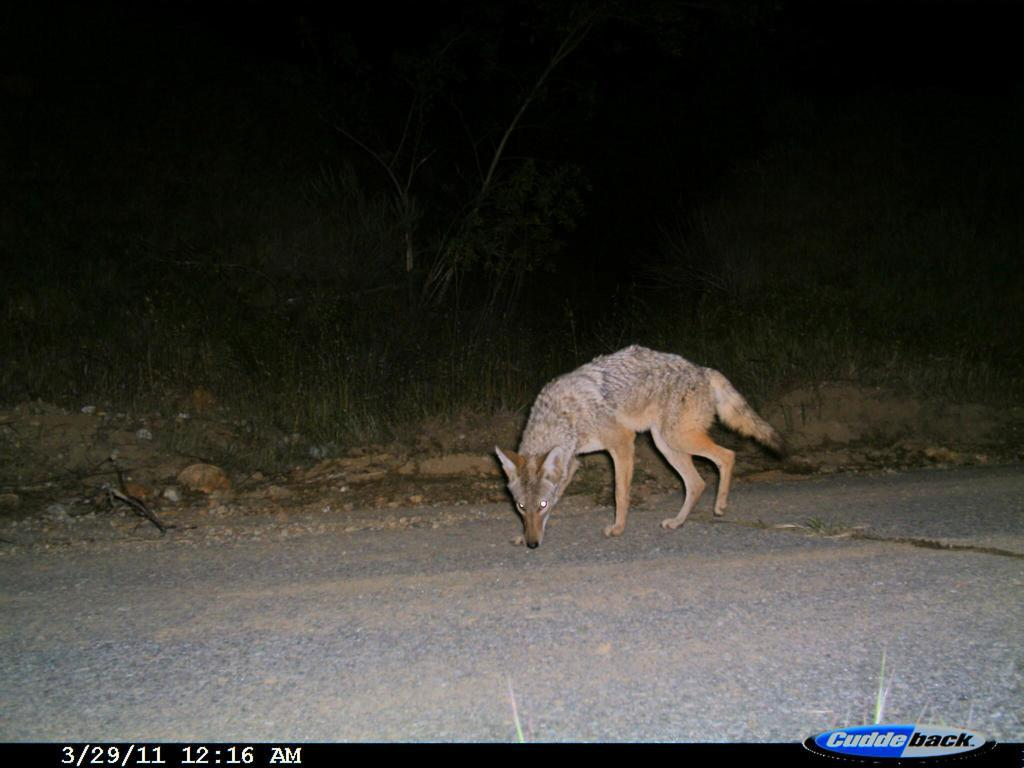coyote: (492, 341, 792, 553)
